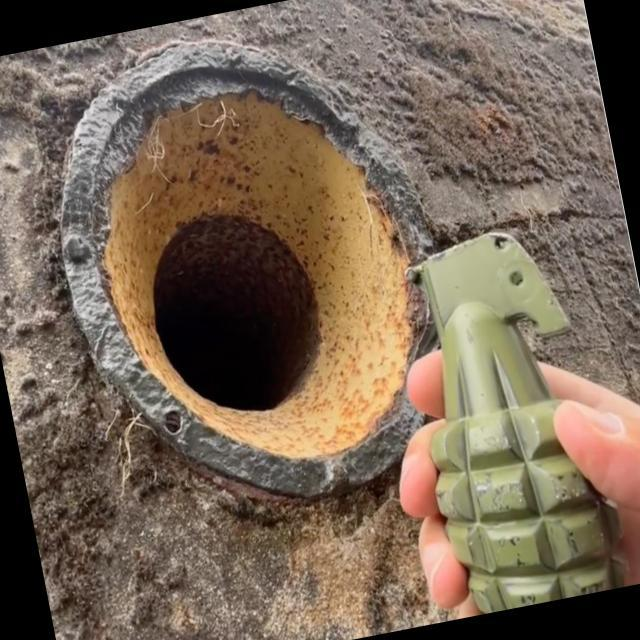grenade: (392, 217, 624, 618)
